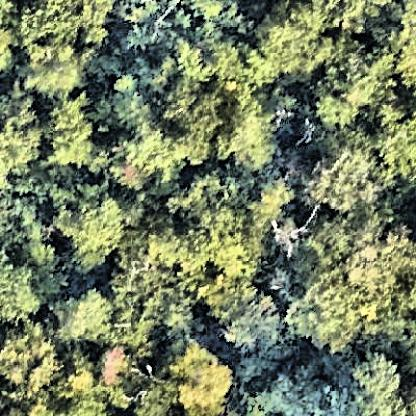tree-top: (294, 213, 416, 353), (170, 169, 292, 283), (112, 56, 218, 169), (45, 183, 130, 275), (116, 247, 197, 338), (312, 48, 389, 135), (1, 235, 70, 327), (210, 274, 289, 351), (207, 95, 286, 172), (260, 1, 339, 71), (330, 352, 416, 416), (207, 37, 285, 106), (169, 341, 237, 412), (48, 278, 114, 350), (306, 153, 378, 218), (41, 96, 105, 168), (23, 1, 123, 46), (1, 183, 52, 261), (1, 84, 41, 180), (26, 44, 95, 98), (369, 104, 416, 181), (2, 329, 63, 384), (262, 369, 327, 416), (60, 370, 123, 416), (126, 371, 175, 416)
